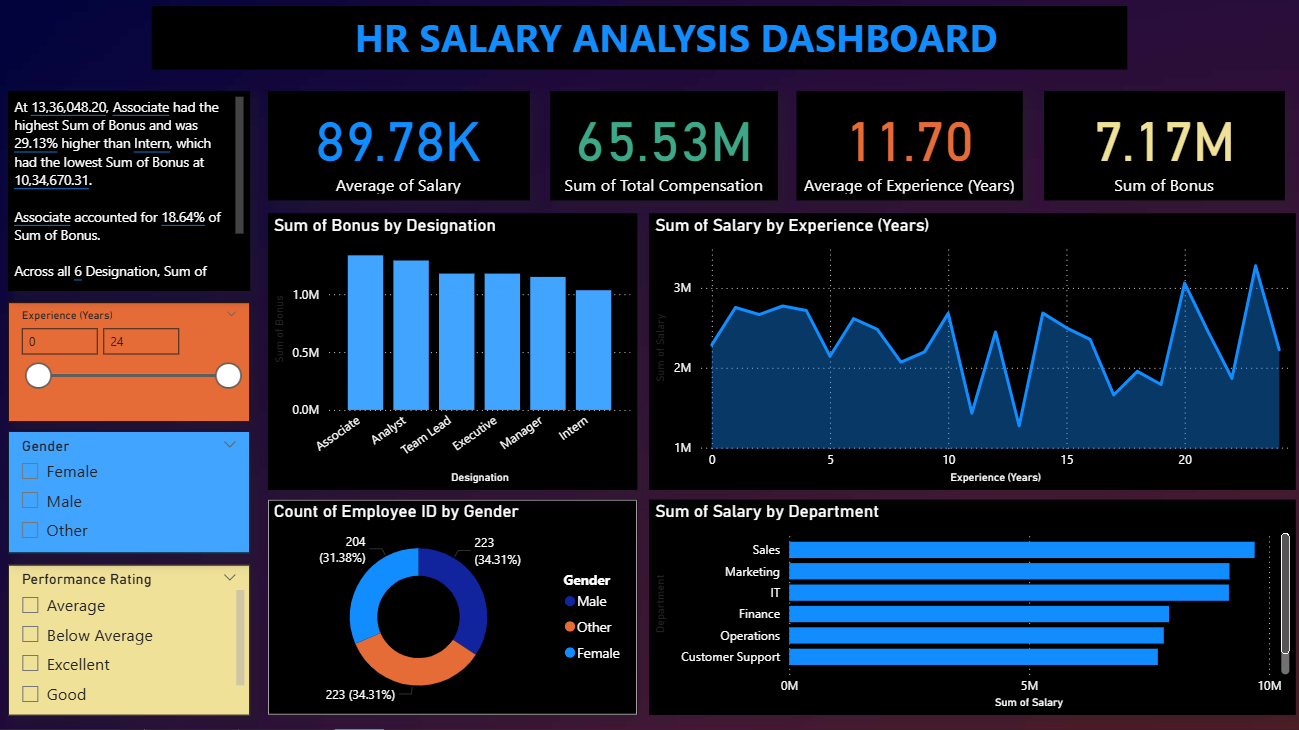

This screenshot's page, from the dashboard's own definition file:
{"tool":"powerbi","page":{"name":"Page 1","canvas":[1280,720],"ordinal":0},"visuals":[{"type":"card","fields":{"Values":["Avg(Sheet1.Salary)"]},"box":[265.2,92.8,256.5,107.2],"z":0},{"type":"card","fields":{"Values":["Sum(Sheet1.Total Compensation)"]},"box":[542,92.8,223.2,107.2],"z":1000},{"type":"card","fields":{"Values":["Avg(Sheet1.Experience (Years))"]},"box":[784.1,92.8,221.7,107.2],"z":2000},{"type":"clusteredBarChart","fields":{"Category":["Sheet1.Department"],"Y":["Sum(Sheet1.Salary)"]},"box":[639.1,494.2,634.8,211.6],"z":3000},{"type":"donutChart","fields":{"Category":["Sheet1.Gender"],"Y":["CountNonNull(Sheet1.Employee ID)"]},"box":[265.2,494.2,362.3,211.6],"z":4000},{"type":"areaChart","fields":{"Category":["Sheet1.Experience (Years)"],"Y":["Sum(Sheet1.Salary)"]},"box":[639.1,213,634.8,271],"z":5000},{"type":"slicer","fields":{"Values":["Sheet1.Performance Rating"]},"box":[10.1,558,237.7,147.8],"z":6000},{"type":"slicer","fields":{"Values":["Sheet1.Experience (Years)"]},"box":[10.1,300,237.7,117.4],"z":7000},{"type":"slicer","fields":{"Values":["Sheet1.Gender"]},"box":[10.1,427.5,237.7,120.3],"z":8000},{"type":"lineClusteredColumnComboChart","fields":{"Category":["Sheet1.Designation"],"Y":["Sum(Sheet1.Bonus)"]},"box":[265.2,213,362.3,271],"z":9000},{"type":"card","fields":{"Values":["Sum(Sheet1.Bonus)"]},"box":[1027.6,92.8,236.2,107.2],"z":10000},{"type":"textbox","box":[150.7,10.1,958,62.3],"z":11000},{"type":"textbox","box":[10.1,92.8,237.7,195.7],"z":12000}]}

Visuals, with their boxes in screenshot pixels (x1, y1, x2, y2), scaled from the page's 1280x720 canvas onto the 1299x730 screenshot:
card - Avg(Sheet1.Salary): box(269, 94, 529, 203)
card - Sum(Sheet1.Total Compensation): box(550, 94, 777, 203)
card - Avg(Sheet1.Experience (Years)): box(796, 94, 1021, 203)
clusteredBarChart - Sheet1.Department x Sum(Sheet1.Salary): box(649, 501, 1293, 716)
donutChart - Sheet1.Gender x CountNonNull(Sheet1.Employee ID): box(269, 501, 637, 716)
areaChart - Sheet1.Experience (Years) x Sum(Sheet1.Salary): box(649, 216, 1293, 491)
slicer - Sheet1.Performance Rating: box(10, 566, 251, 716)
slicer - Sheet1.Experience (Years): box(10, 304, 251, 423)
slicer - Sheet1.Gender: box(10, 433, 251, 555)
lineClusteredColumnComboChart - Sheet1.Designation x Sum(Sheet1.Bonus): box(269, 216, 637, 491)
card - Sum(Sheet1.Bonus): box(1043, 94, 1283, 203)
textbox: box(153, 10, 1125, 73)
textbox: box(10, 94, 251, 293)
